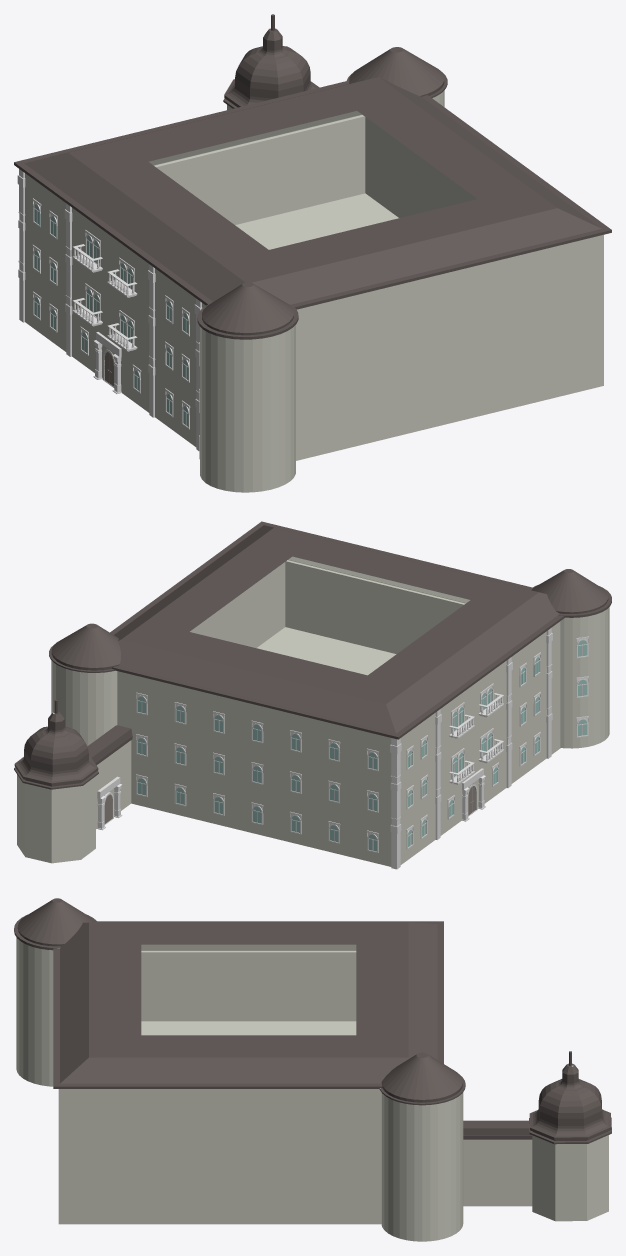
The model's file is Castle.fbx.
The picture shows the model from 3 angles, top to bottom: view 1: azimuth 30°, elevation 25°; view 2: azimuth 150°, elevation 25°; view 3: azimuth 270°, elevation 25°; orthographic projection. The views are drawn at different scales.
Parts seen in each view (by area): view 1: Cube, Cylinder, Cylinder.002, Cube.001, Cylinder.001, Balcony FREE_OBJ.001, Cube.002, Cube.003, Cube.012, Cube.005, Cube.007, Cube.006; view 2: Cube, Cylinder.002, Cylinder, Cylinder.001, Cube.001, Cube.025, Cube.021, Cube.022, Cube.023, Balcony FREE_OBJ.001, Cube.014, Cube.020 (+6 smaller); view 3: Cube, Cylinder.001, Cylinder.002, Cylinder, Cube.025.
Boxes of the visible parts, box(x1,y1,x2,y2) form: Cube: box(14, 77, 611, 460); Cylinder: box(197, 282, 298, 492); Cylinder.002: box(223, 14, 319, 109); Cube.001: box(17, 169, 202, 450); Cylinder.001: box(346, 47, 447, 106); Balcony FREE_OBJ.001: box(72, 244, 137, 351); Cube.002: box(32, 245, 189, 382); Cube.003: box(32, 198, 189, 336); Cube.012: box(32, 291, 190, 429); Cube.005: box(85, 230, 100, 320); Cube.007: box(93, 332, 121, 393); Cube.006: box(119, 257, 134, 344); Cube: box(110, 521, 564, 866); Cylinder.002: box(14, 699, 98, 863); Cylinder: box(530, 569, 611, 748); Cylinder.001: box(49, 623, 120, 745); Cube.001: box(390, 628, 552, 869); Cube.025: box(87, 725, 132, 828); Cube.021: box(136, 774, 378, 852); Cube.022: box(136, 734, 378, 812); Cube.023: box(136, 692, 378, 771); Balcony FREE_OBJ.001: box(449, 693, 503, 784); Cube.014: box(576, 636, 588, 737); Cube.020: box(97, 776, 122, 830); Cube: box(53, 921, 443, 1224); Cylinder.001: box(379, 1052, 465, 1241); Cylinder.002: box(529, 1051, 611, 1221); Cylinder: box(14, 898, 97, 1086); Cube.025: box(463, 1120, 532, 1206).
Bounding box in the file's own units: 838 × 343 × 1099.
